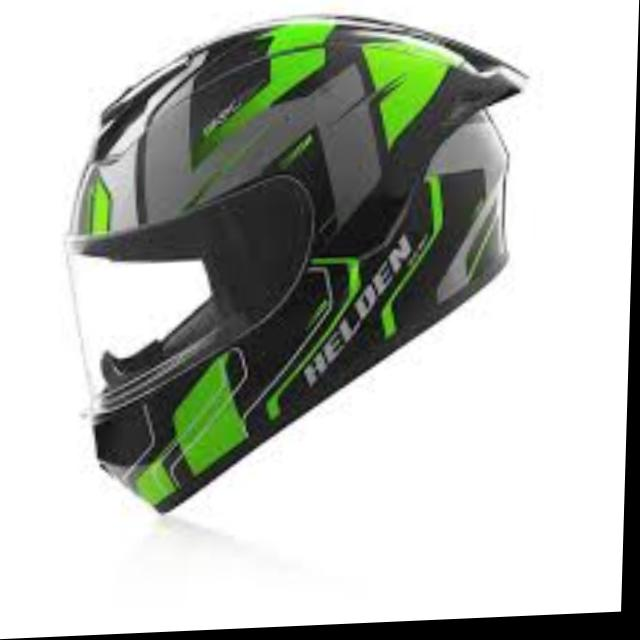motorcycle-helmets: (49, 1, 520, 531)
